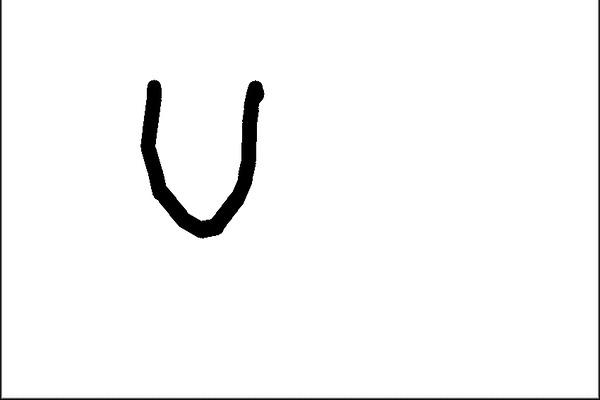U: (137, 65, 271, 245)
